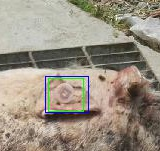text: (48, 78, 83, 111)
